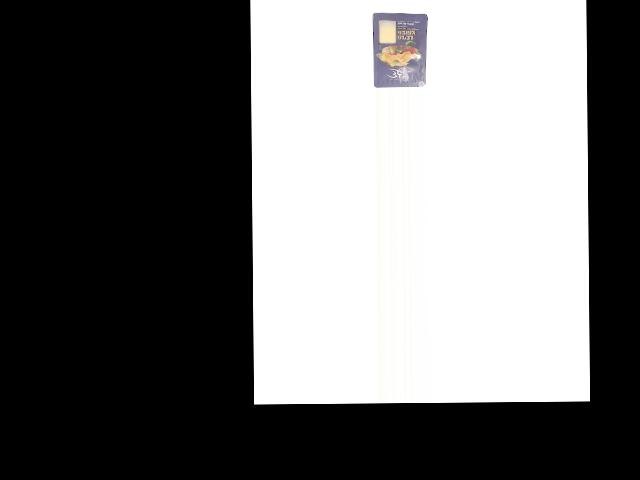cheese: (372, 12, 430, 88)
